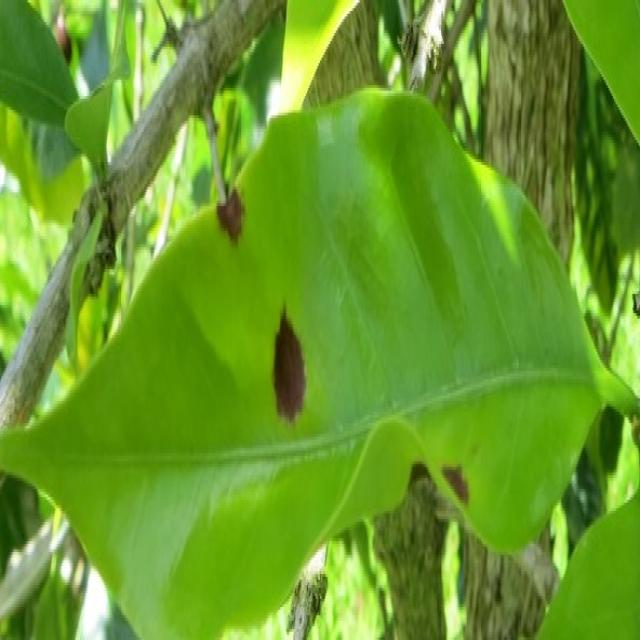Enfermedad-Mancha-de-hierro: (0, 88, 640, 640)
